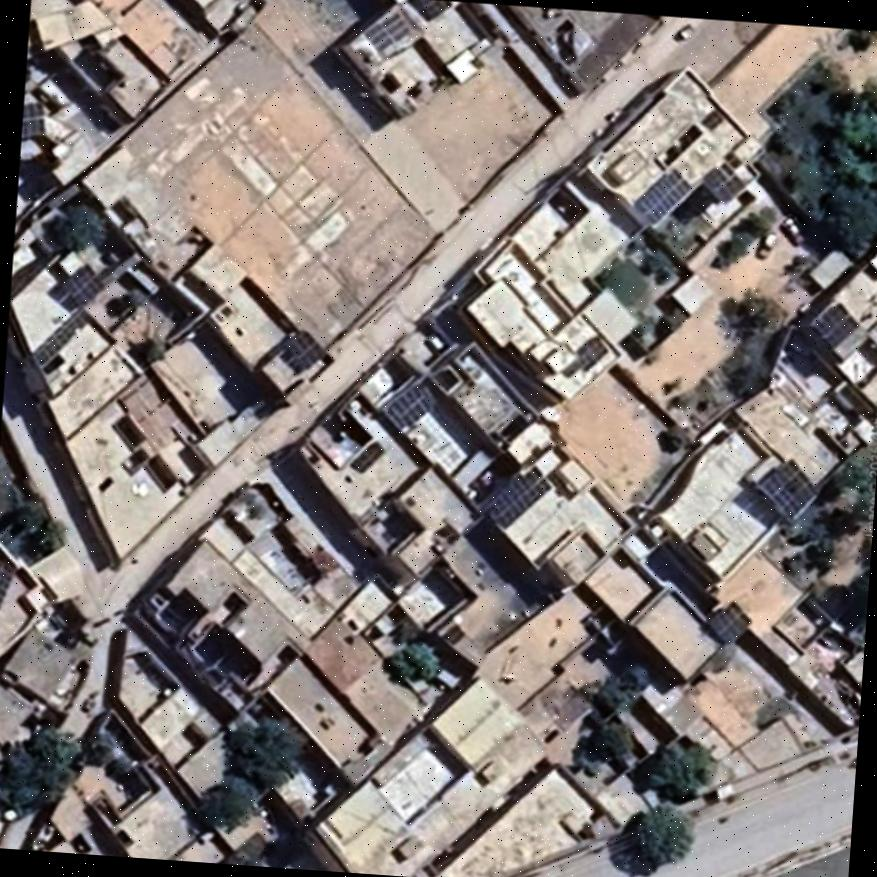Solarpanel: (489, 464, 548, 526), (633, 164, 693, 223), (762, 458, 814, 516), (813, 299, 857, 347), (387, 384, 437, 426), (709, 601, 749, 641), (64, 265, 101, 304), (288, 330, 325, 367), (20, 104, 41, 140), (0, 561, 11, 597)
